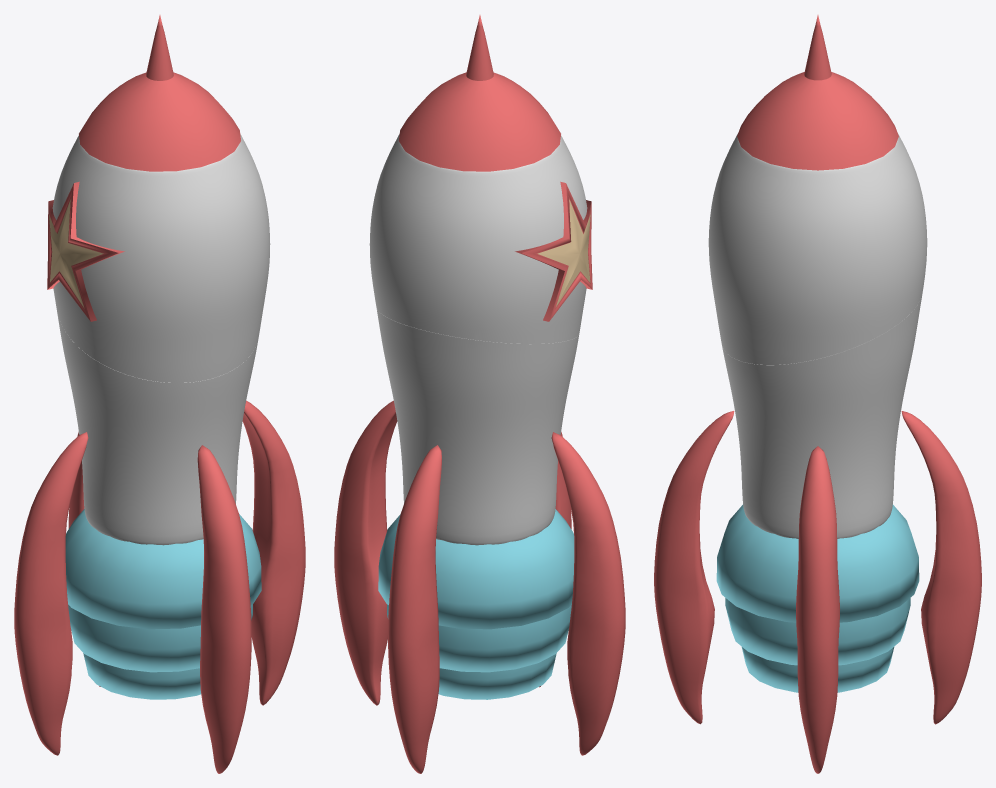
Rendered from Rocket_MEDIUM.fbx.
The picture shows the model from 3 angles, left to right: view 1: azimuth 30°, elevation 25°; view 2: azimuth 150°, elevation 25°; view 3: azimuth 270°, elevation 25°; orthographic projection.
Visible parts, largest first — view 1: top_body, bottom_body, front_stands, side_stands, top_propellers, Cap, bottom_propellers; view 2: top_body, bottom_body, front_stands, side_stands, top_propellers, Cap, bottom_propellers; view 3: top_body, bottom_body, side_stands, top_propellers, Cap, front_stands, bottom_propellers.
Boxes of the visible parts, x1,y1,x2,y2 form: top_body: [47, 134, 270, 382]; bottom_body: [57, 313, 258, 545]; front_stands: [14, 400, 305, 755]; side_stands: [68, 432, 251, 773]; top_propellers: [65, 509, 261, 629]; Cap: [79, 15, 240, 171]; bottom_propellers: [68, 604, 252, 699]; top_body: [369, 134, 592, 343]; bottom_body: [376, 309, 579, 545]; front_stands: [334, 401, 625, 755]; side_stands: [388, 432, 571, 773]; top_propellers: [378, 509, 574, 629]; Cap: [399, 15, 560, 171]; bottom_propellers: [387, 604, 571, 699]; top_body: [708, 134, 927, 364]; bottom_body: [722, 295, 922, 538]; side_stands: [654, 411, 981, 724]; top_propellers: [716, 504, 919, 622]; Cap: [737, 15, 898, 170]; front_stands: [796, 446, 839, 773]; bottom_propellers: [725, 598, 910, 692].
Size of the model in its own units: 185 by 443 by 185.
